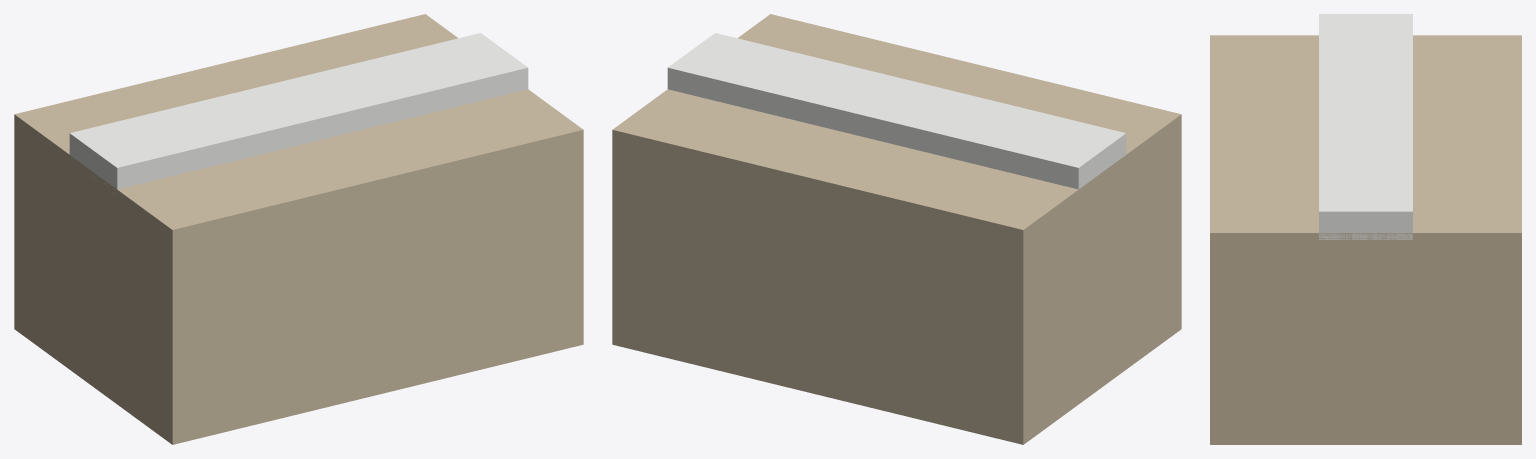
Rendered from pickup_parcel.glb.
The picture shows the model from 3 angles, left to right: view 1: azimuth 30°, elevation 25°; view 2: azimuth 150°, elevation 25°; view 3: azimuth 270°, elevation 25°; orthographic projection.
Visible parts, largest first — view 1: parcel, tape; view 2: parcel, tape; view 3: parcel, tape.
Part boxes in pixels (x1=…): parcel: x1=14, y1=14, x2=583, y2=444; tape: x1=69, y1=33, x2=528, y2=195; parcel: x1=612, y1=14, x2=1181, y2=444; tape: x1=667, y1=33, x2=1126, y2=189; parcel: x1=1210, y1=35, x2=1521, y2=444; tape: x1=1319, y1=14, x2=1412, y2=239.
Size of the model in its own units: 0.6001 by 0.3299 by 0.3999.
